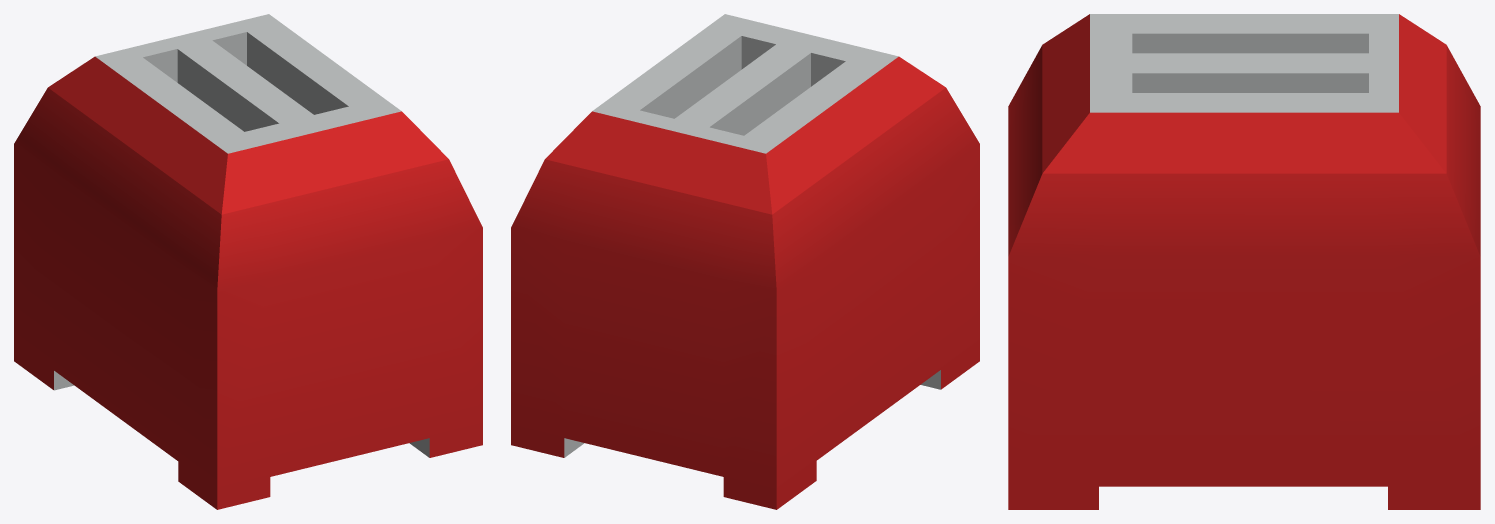
File: Toaster.fbx
3 views of the same model, side by side, from view 1: azimuth 30°, elevation 25°; view 2: azimuth 150°, elevation 25°; view 3: azimuth 270°, elevation 25° (orthographic). The views are drawn at different scales.
Visible parts, largest first — view 1: pCube167; view 2: pCube167; view 3: pCube167.
Boxes of the visible parts, x1,y1,x2,y2 form: pCube167: [14, 14, 482, 509]; pCube167: [511, 14, 979, 509]; pCube167: [1008, 14, 1480, 509].
Bounding box in the file's own units: 0.2016 × 0.2316 × 0.2669.
